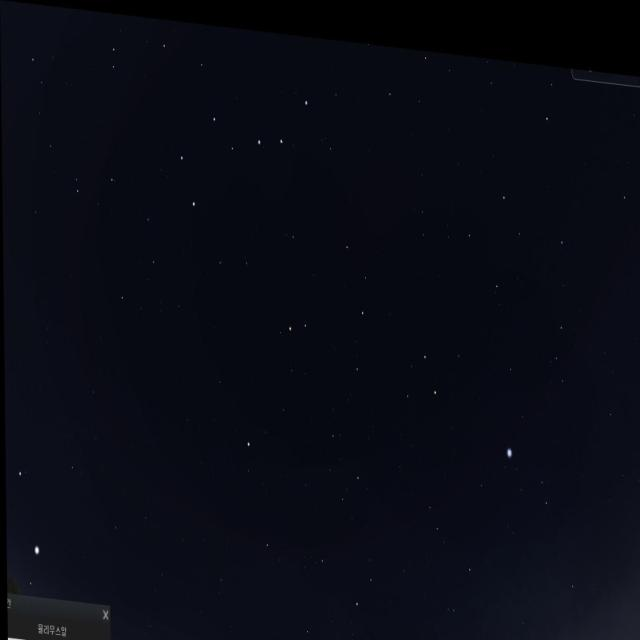lyra: (500, 412, 557, 513)
ursa_major: (174, 68, 312, 220)
